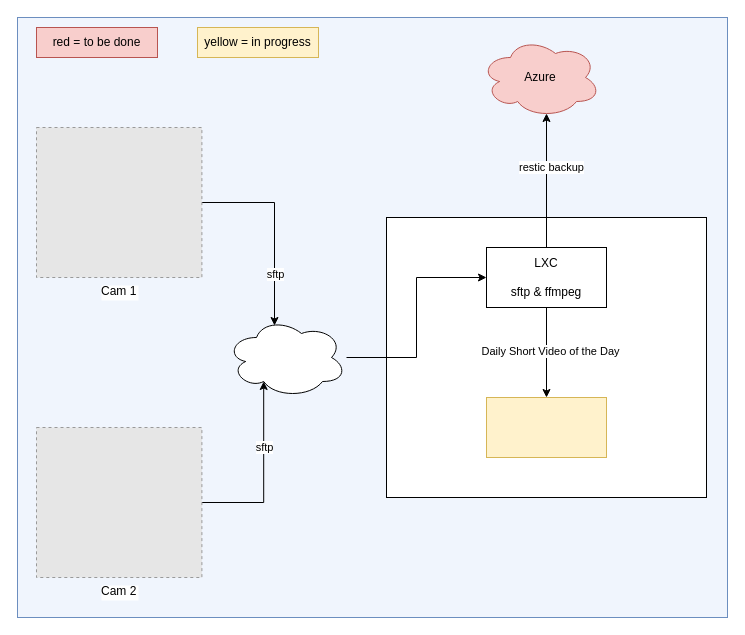
Image size: 745x635. Some labels were removed from this diagram. Grey dashed boxes stand in for pictures. The box of each missing label's shape, as (x1, y1, x2, y2) in pixels:
Internet: (226, 316, 346, 398)
Proxmox Hypervisor: (386, 216, 706, 498)
VM Docker Plex: (486, 396, 606, 458)
